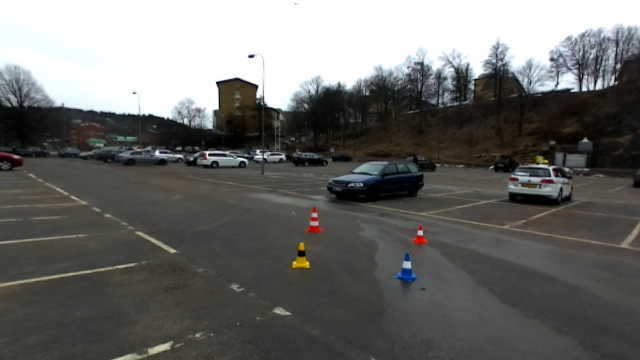blue: (395, 251, 418, 284)
orange: (413, 223, 428, 244)
orange2: (302, 206, 327, 234)
yellow: (291, 240, 311, 269)
